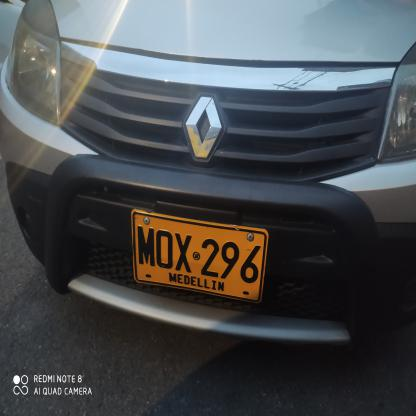placa: (126, 206, 270, 305)
